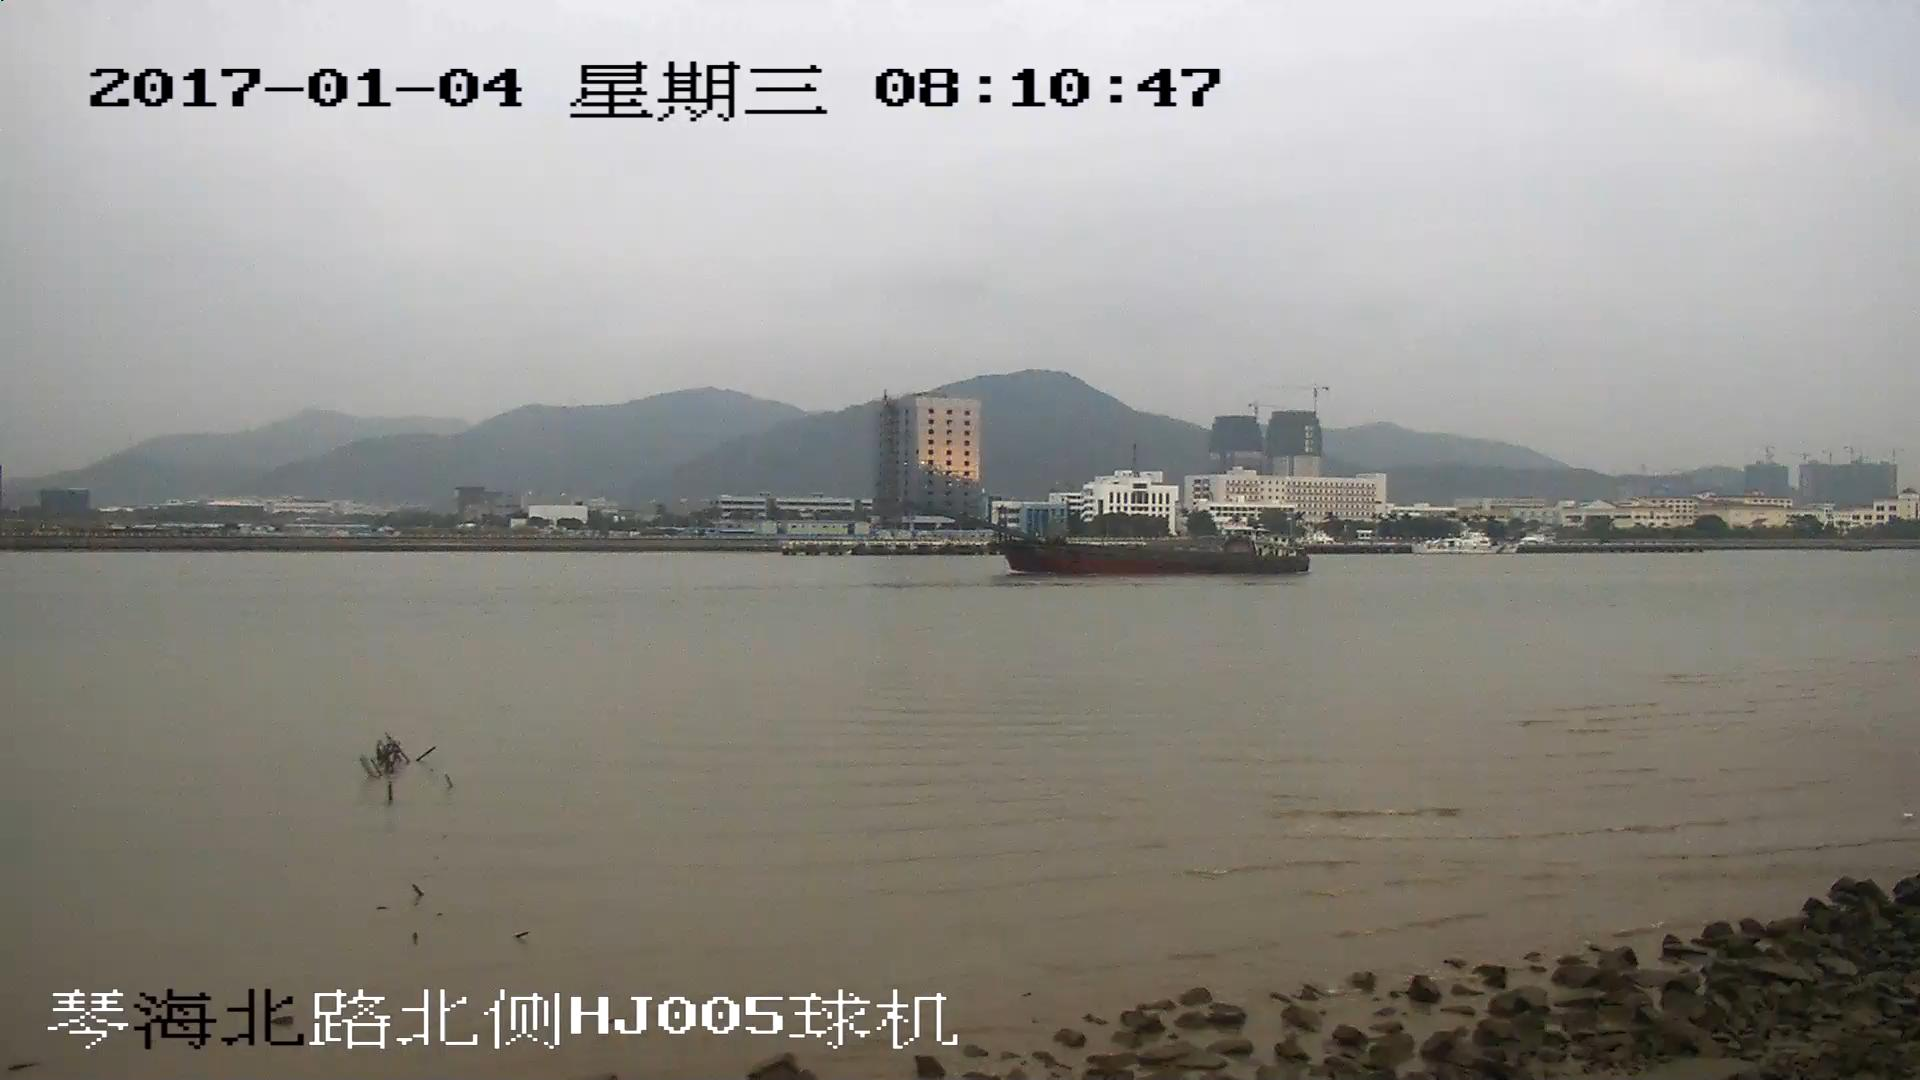bulk cargo carrier: (921, 507, 1309, 578)
